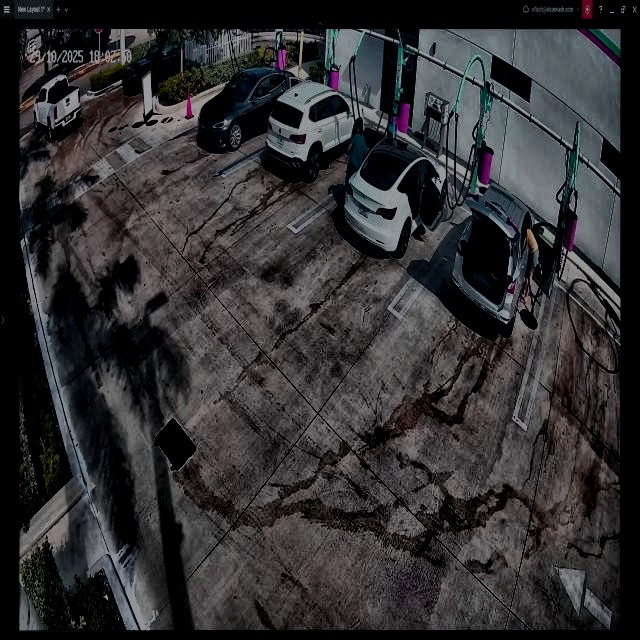Car: (452, 183, 561, 337), (343, 136, 448, 258), (268, 81, 364, 181), (197, 63, 302, 150)
